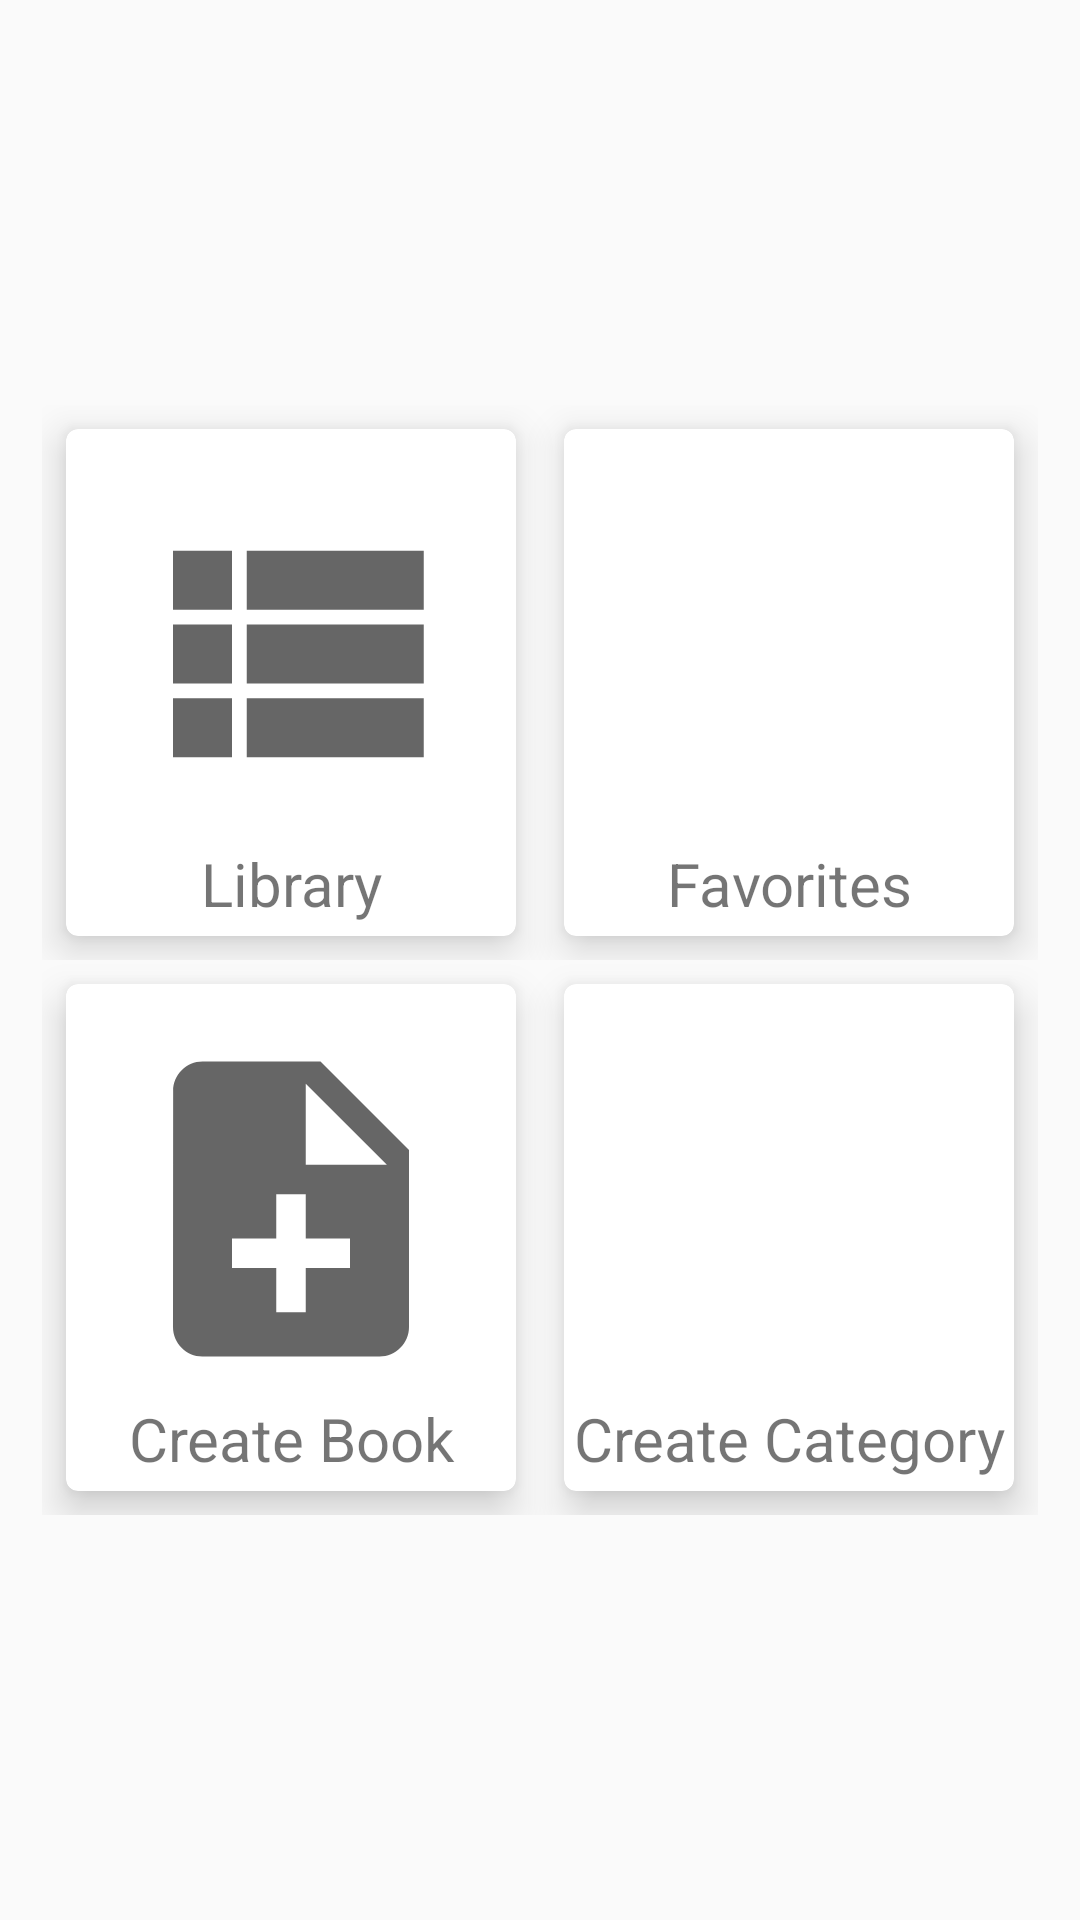

Where to tap for icons on this 1080 x 1920 app screen, as (x,y):
note add: (291,1209)
view list: (298,654)
